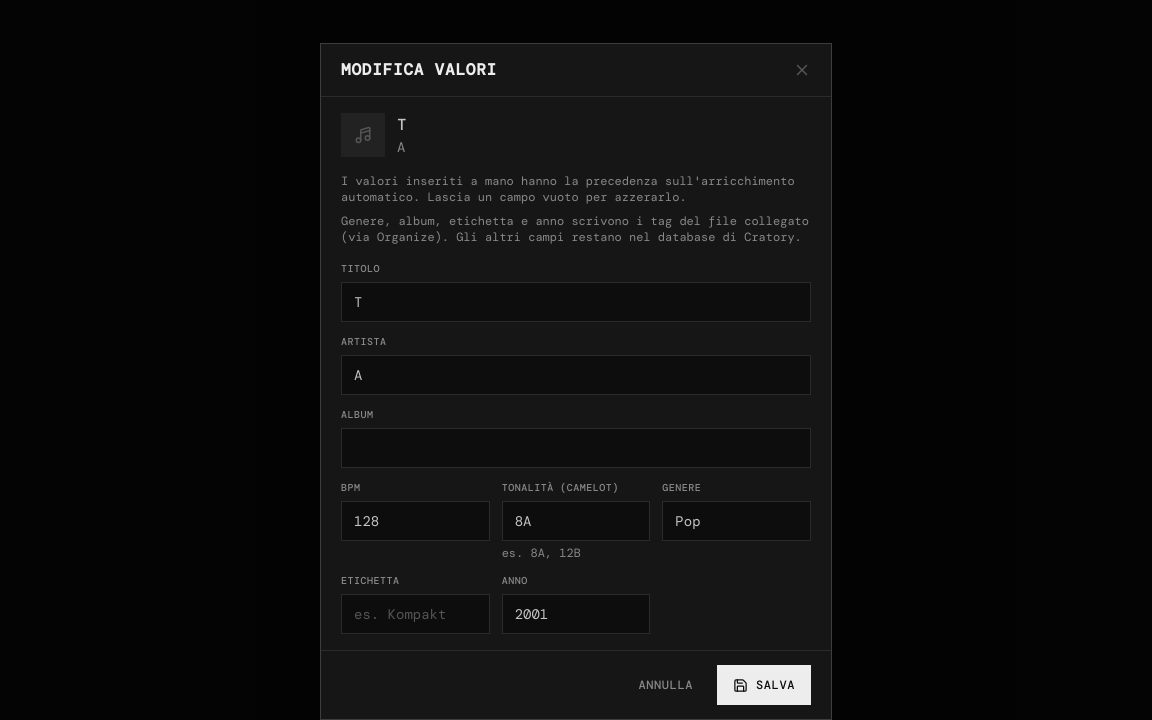
Test case: TrackEditModal — indipendenza degli errori tra i due percorsi (C5) › updateFileTags fallisce: updateTrack viene chiamato comunque e il modal resta aperto
(page scrolled)
# genre (campo file) e bpm (campo track) cambiano insieme: due patch indipendenti.
Replace the text in the field showing "Pop" with "Techno" at coordinates (737, 521), box [662, 501, 811, 541]
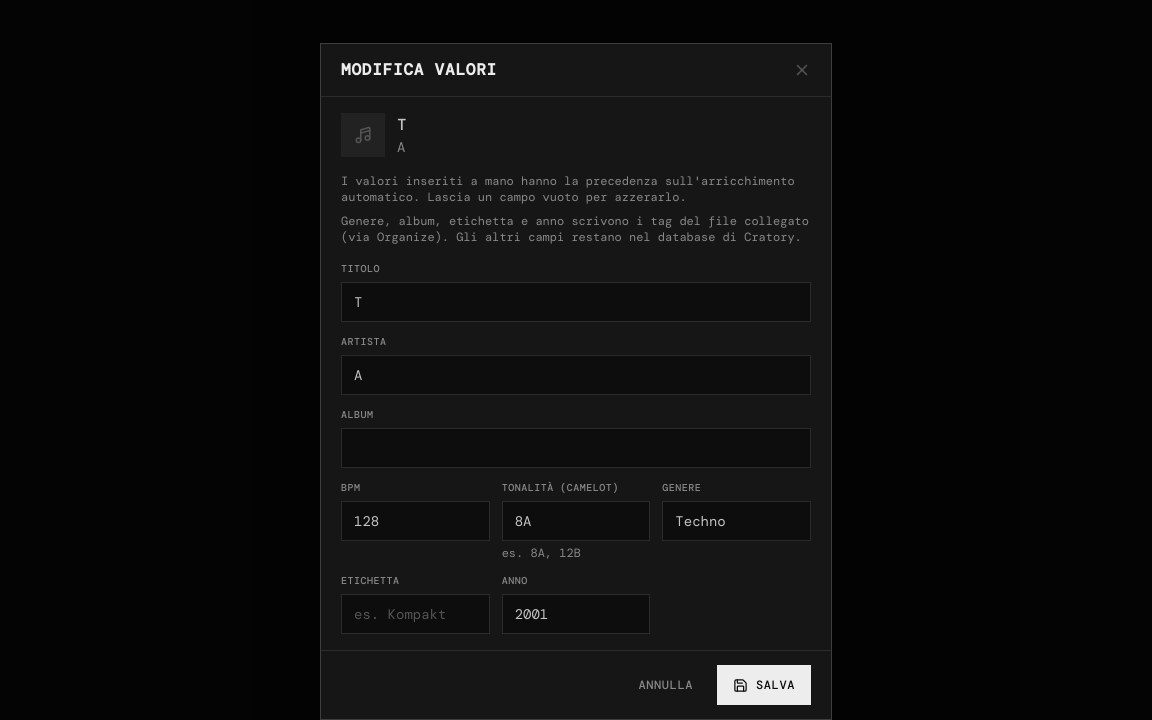
Type "130" into the number field showing "128".
click(415, 521); type("130")  # box [341, 501, 490, 541]
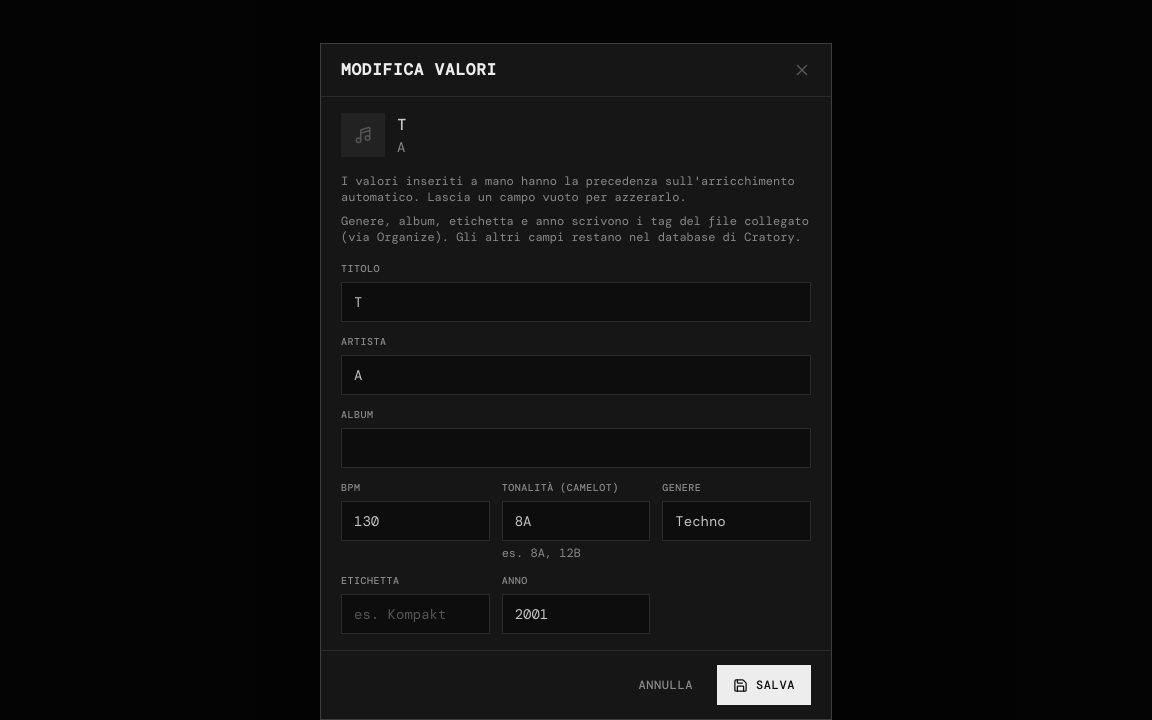
Submit the form with id "track-edit-form", box [341, 261, 811, 634]
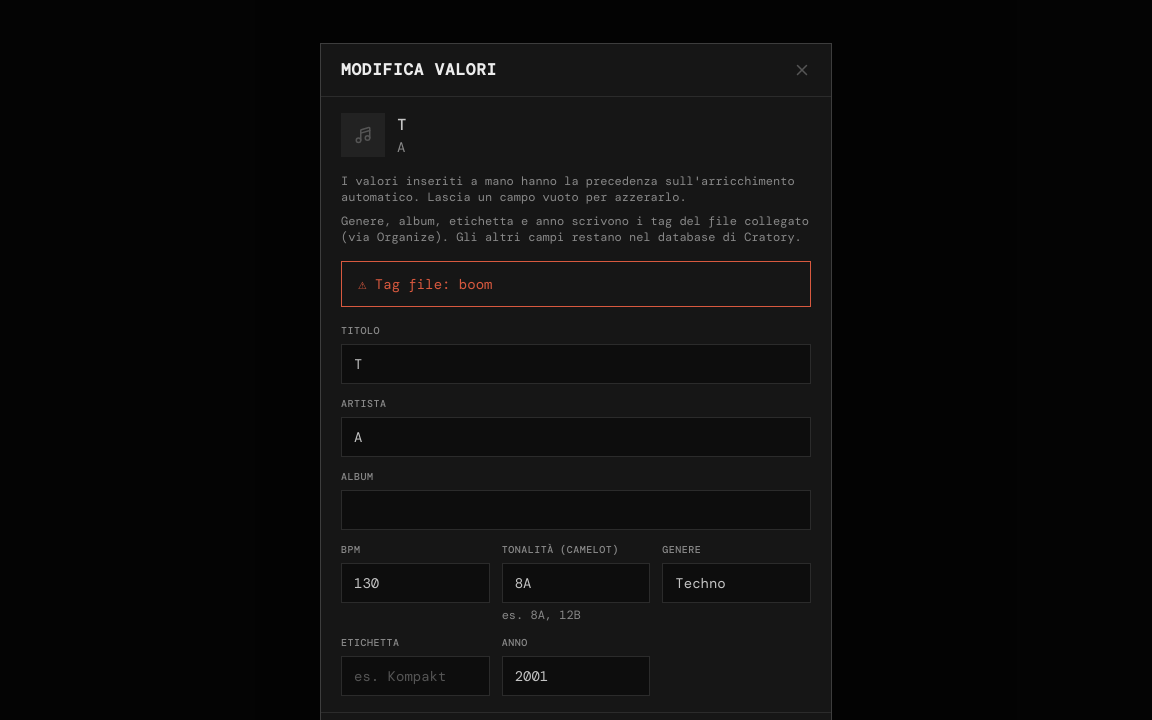
Result: the text "⚠ Tag file: boom" is shown at [341, 261, 811, 307]
